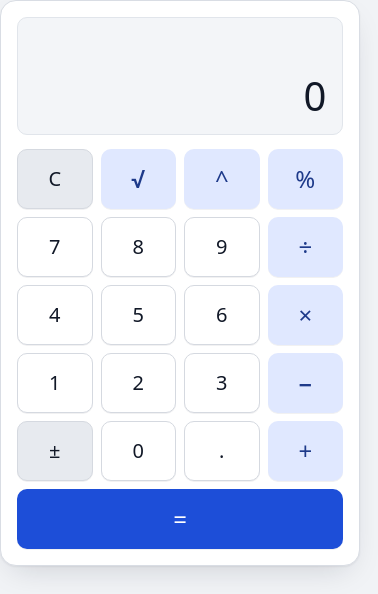
Test case: Calculator › validation before submitting › explains what is missing when nothing is entered
The image size is (378, 594).
Click the button named "Equals" at coordinates (180, 519), box [17, 489, 343, 549]
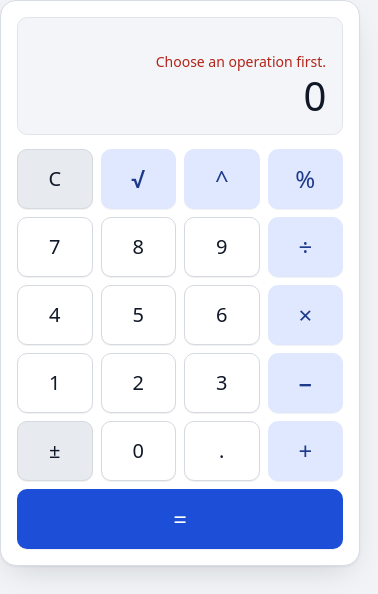
Result: the message reads "Choose an operation first." at [156, 52, 326, 70]
